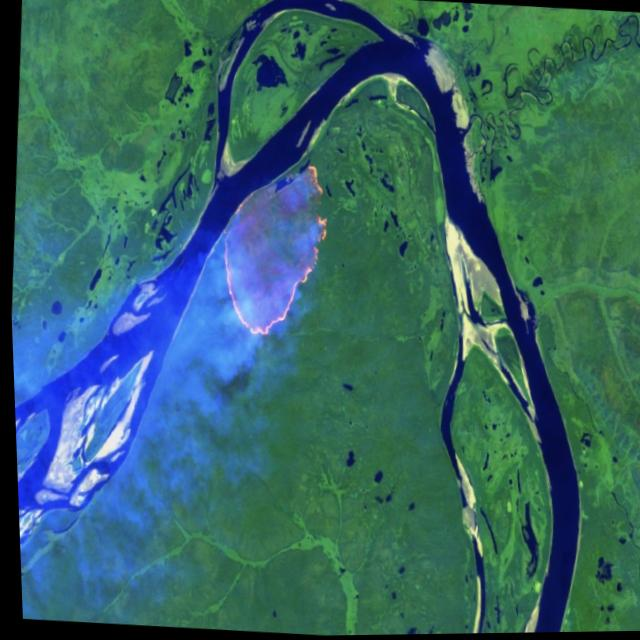fire: (207, 156, 337, 349)
